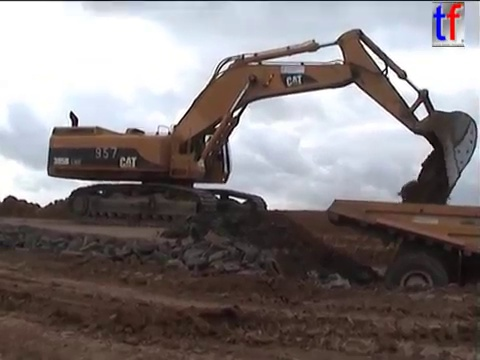excavator: (43, 25, 479, 232)
truck: (324, 196, 480, 323)
